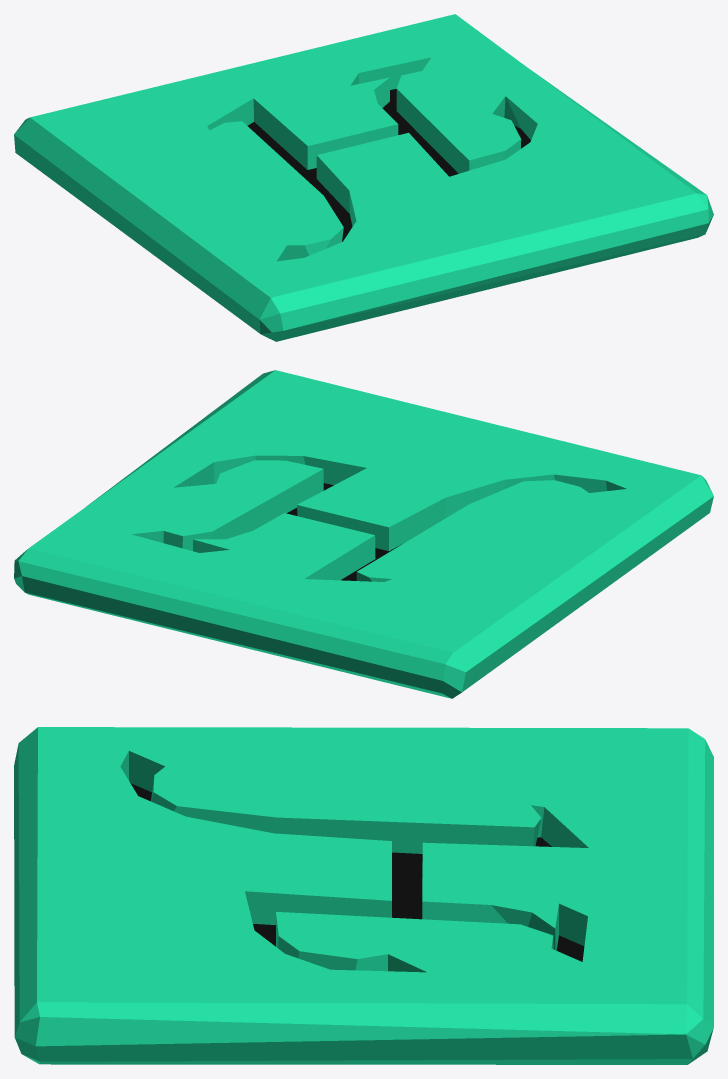
Rendered from tile-H.glb.
The picture shows the model from 3 angles, top to bottom: view 1: azimuth 30°, elevation 25°; view 2: azimuth 150°, elevation 25°; view 3: azimuth 270°, elevation 25°; orthographic projection. The views are drawn at different scales.
Parts seen in each view (by area): view 1: tile-puzzle-H v0; view 2: tile-puzzle-H v0; view 3: tile-puzzle-H v0.
Part boxes in pixels (bbox=[...]): tile-puzzle-H v0: bbox=[14, 14, 713, 341]; tile-puzzle-H v0: bbox=[14, 370, 713, 698]; tile-puzzle-H v0: bbox=[14, 727, 713, 1064].
Bounding box in the file's own units: 39.9 × 3.92 × 39.97.
